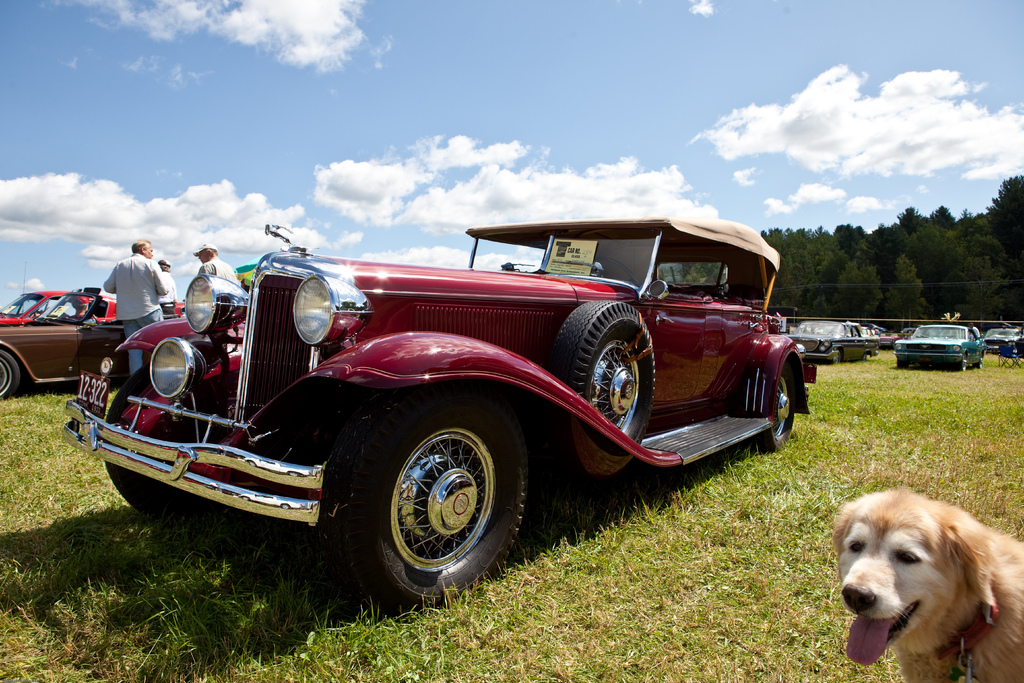Car: (64, 217, 817, 603), (0, 281, 171, 399), (771, 317, 885, 370), (0, 287, 116, 330), (887, 320, 984, 369), (974, 324, 1023, 362)
